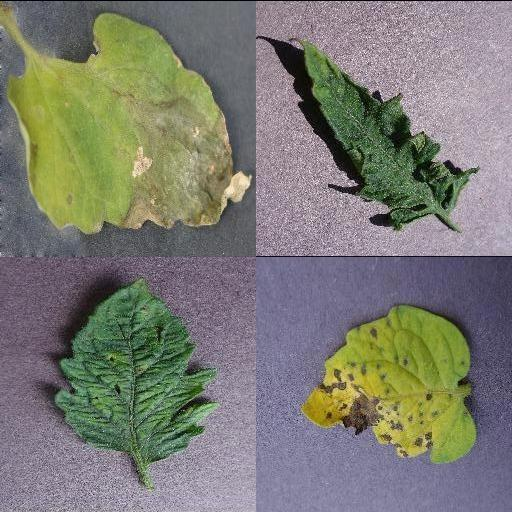Late Blight: (3, 11, 255, 239)
Mosaic Virus: (290, 34, 480, 232), (55, 275, 221, 463)
Septoria: (298, 304, 478, 462)
